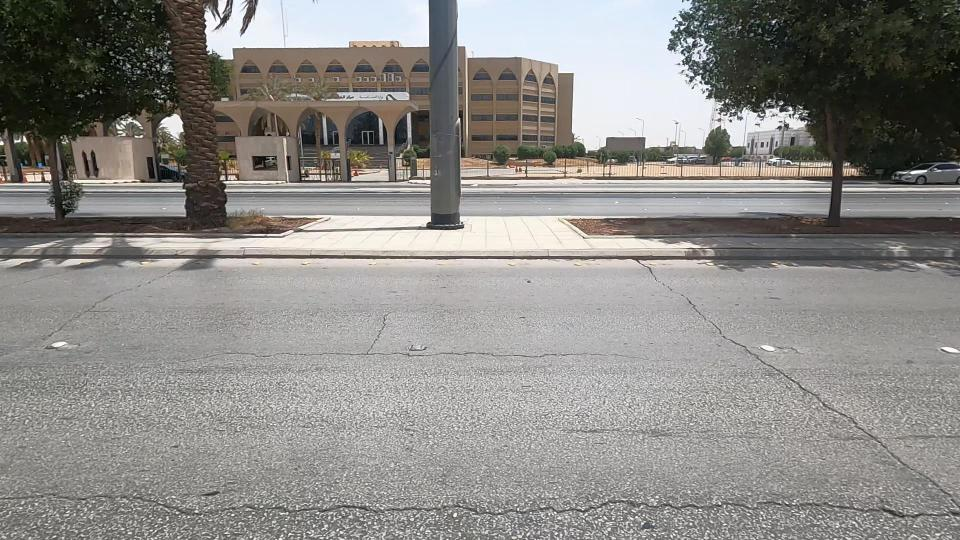CLUTTER_SIDEWALK: (472, 161, 882, 269), (8, 177, 251, 267)
